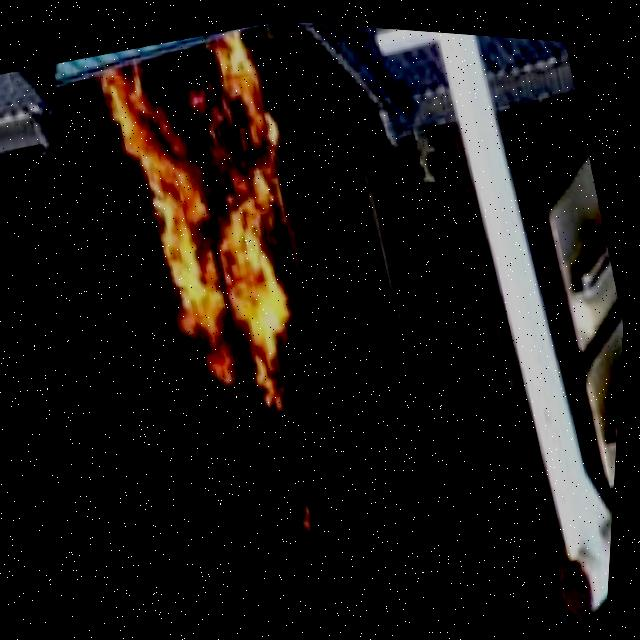Fire: (77, 12, 364, 454)
